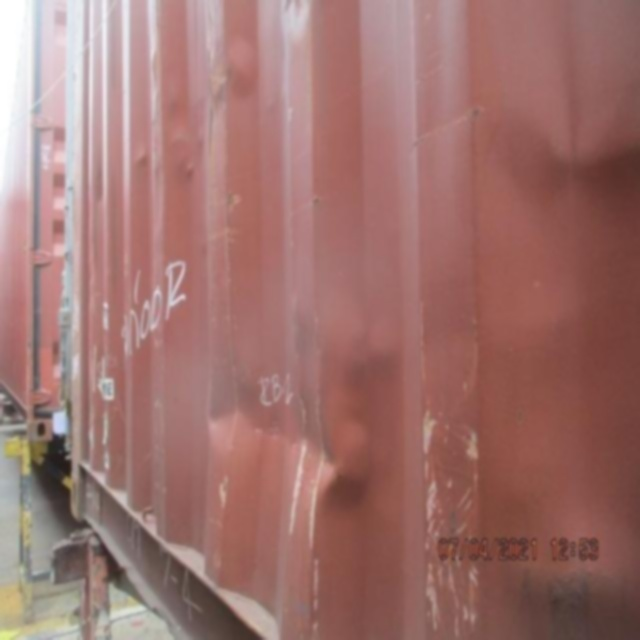Dent: (161, 312, 443, 582), (132, 51, 239, 187)
